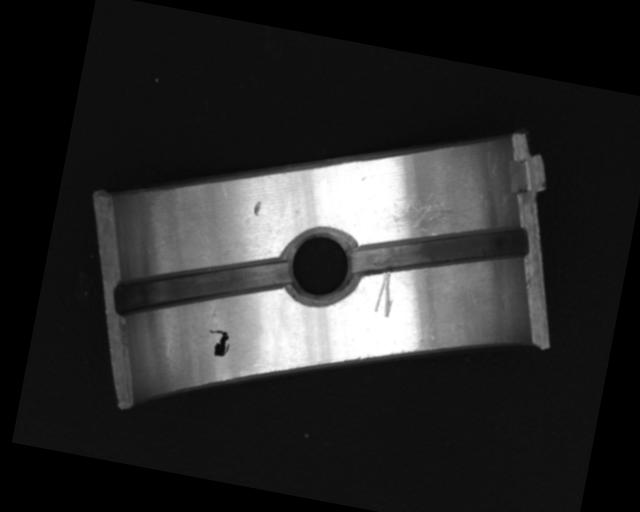blot: (204, 327, 233, 359)
bruise: (252, 198, 263, 218)
gap: (111, 229, 293, 342), (350, 199, 530, 304)
hole: (275, 222, 365, 311)
nick: (372, 268, 399, 318)
scratch: (375, 176, 486, 248)
